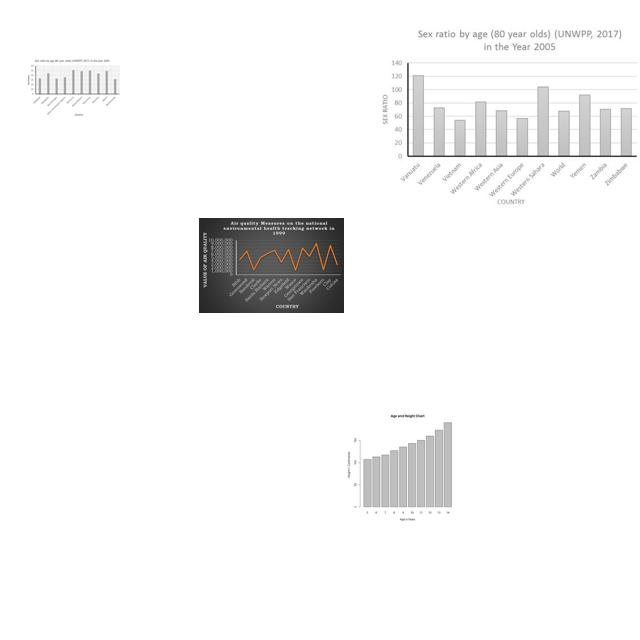Graph: (376, 24, 639, 207), (199, 218, 344, 313), (347, 410, 462, 524), (23, 58, 121, 116)
